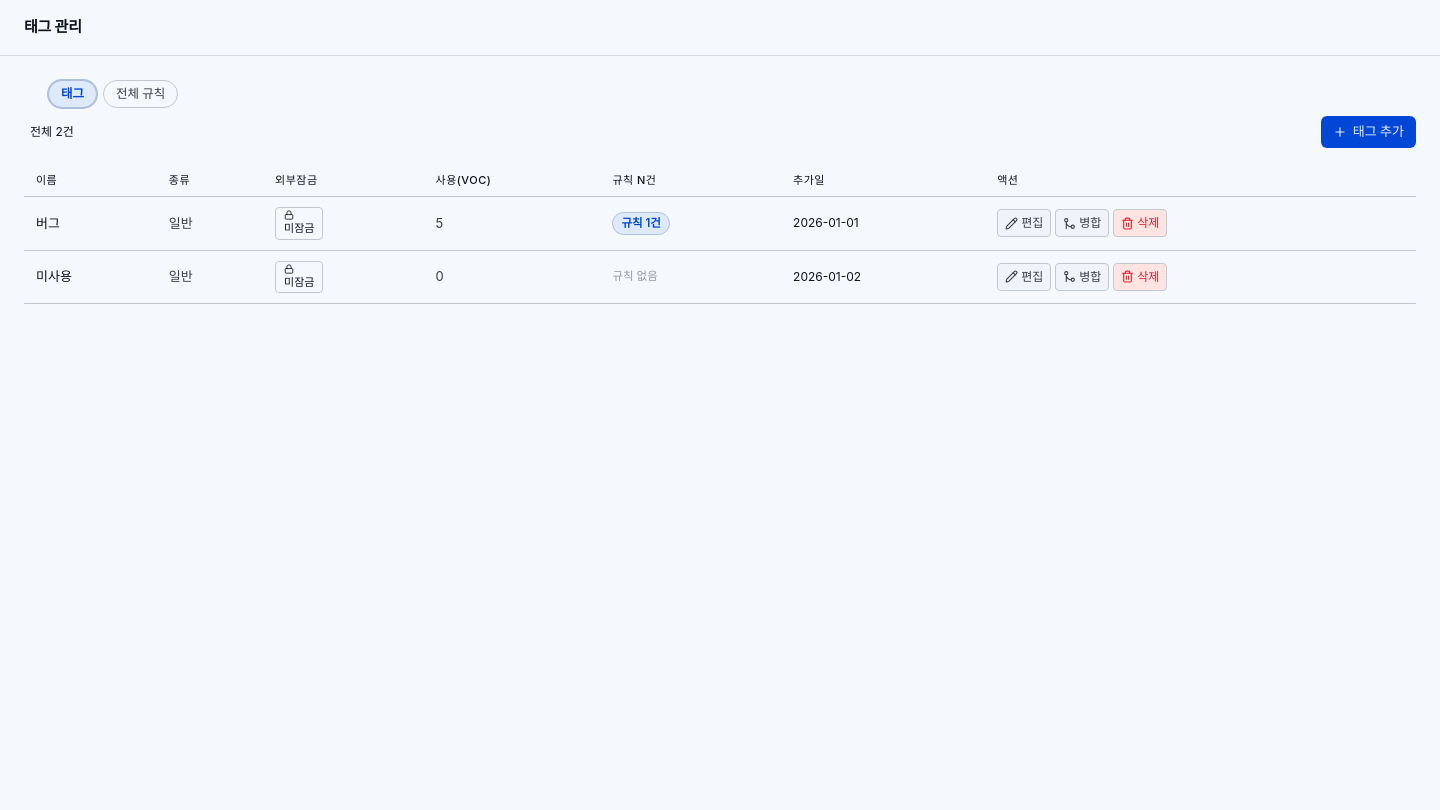
AdminTagsPage Plan 07 › clicking 규칙 N건 badge opens TagRulesManagerModal with tag in header
The image size is (1440, 810).
Click the button with test id "btn-open-rules-tag-001" at (641, 223), box [612,212,670,235]
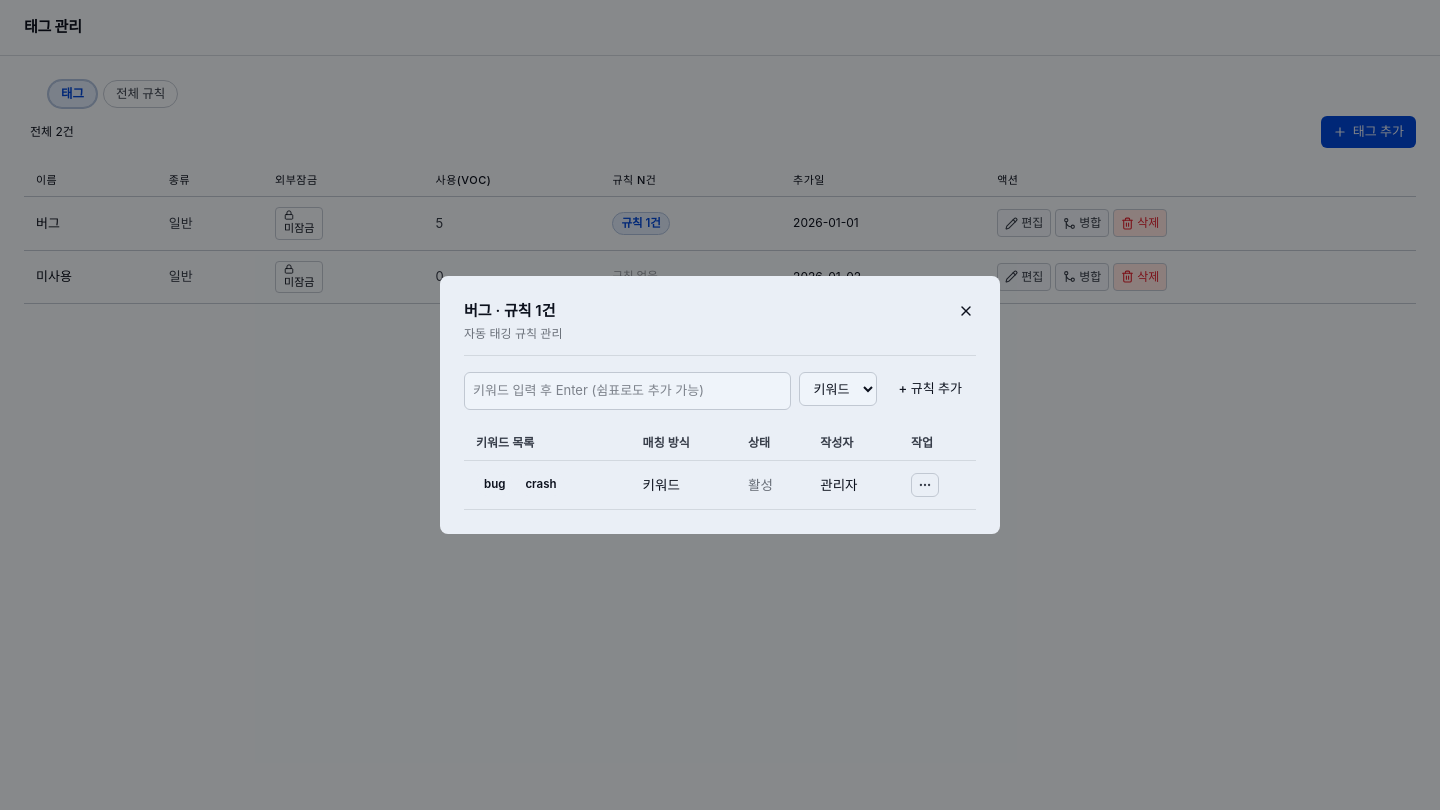
Expected: the text "버그 · 규칙 1건" is shown, [464,300,556,322]
